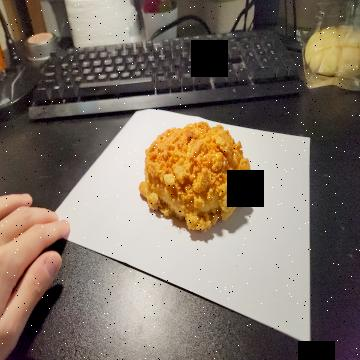soboru_bread: (136, 122, 250, 235)
